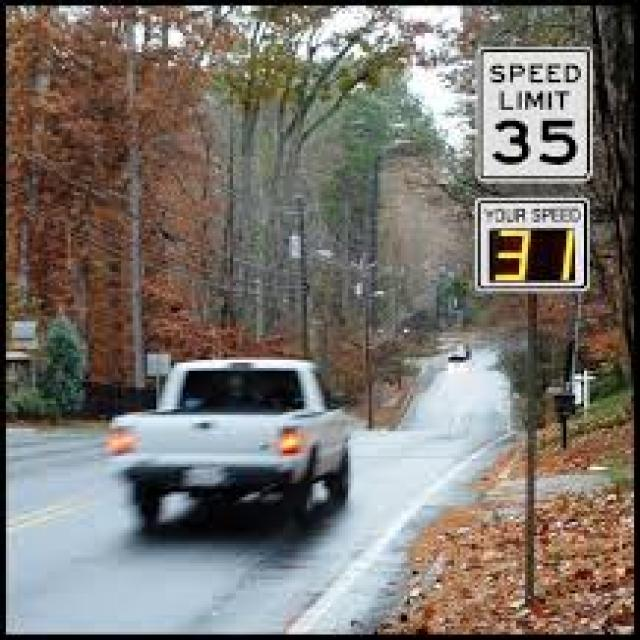Speed Limit Signs: (478, 43, 593, 184)
